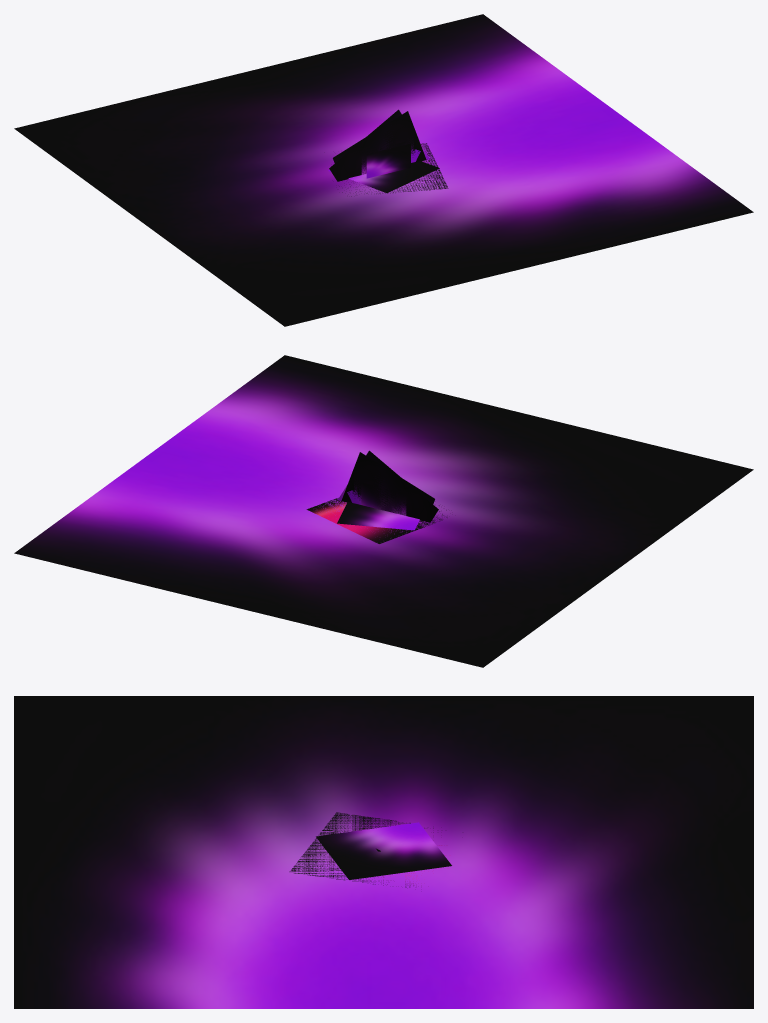
The model's file is datan_common_ExplodeAirBU-_24858e1f.obj.
3 views of the same model, one above another, from view 1: azimuth 30°, elevation 25°; view 2: azimuth 150°, elevation 25°; view 3: azimuth 270°, elevation 25° (orthographic). The views are drawn at different scales.
Parts seen in each view (by area): view 1: datan_common_ExplodeAirBU-_24858e1f_mesh13, datan_common_ExplodeAirBU-_24858e1f_mesh04, datan_common_ExplodeAirBU-_24858e1f_mesh07, datan_common_ExplodeAirBU-_24858e1f_mesh14, datan_common_ExplodeAirBU-_24858e1f_mesh12, datan_common_ExplodeAirBU-_24858e1f_mesh11; view 2: datan_common_ExplodeAirBU-_24858e1f_mesh13, datan_common_ExplodeAirBU-_24858e1f_mesh04, datan_common_ExplodeAirBU-_24858e1f_mesh07, datan_common_ExplodeAirBU-_24858e1f_mesh11, datan_common_ExplodeAirBU-_24858e1f_mesh14; view 3: datan_common_ExplodeAirBU-_24858e1f_mesh13, datan_common_ExplodeAirBU-_24858e1f_mesh14, datan_common_ExplodeAirBU-_24858e1f_mesh11.
Part boxes in pixels (bbox=[...]): datan_common_ExplodeAirBU-_24858e1f_mesh13: bbox=[14, 14, 753, 326]; datan_common_ExplodeAirBU-_24858e1f_mesh04: bbox=[329, 109, 429, 181]; datan_common_ExplodeAirBU-_24858e1f_mesh07: bbox=[333, 111, 426, 163]; datan_common_ExplodeAirBU-_24858e1f_mesh14: bbox=[328, 161, 439, 192]; datan_common_ExplodeAirBU-_24858e1f_mesh12: bbox=[366, 143, 410, 178]; datan_common_ExplodeAirBU-_24858e1f_mesh11: bbox=[339, 143, 448, 196]; datan_common_ExplodeAirBU-_24858e1f_mesh13: bbox=[14, 355, 753, 667]; datan_common_ExplodeAirBU-_24858e1f_mesh04: bbox=[338, 450, 438, 522]; datan_common_ExplodeAirBU-_24858e1f_mesh07: bbox=[341, 452, 434, 510]; datan_common_ExplodeAirBU-_24858e1f_mesh11: bbox=[306, 498, 447, 543]; datan_common_ExplodeAirBU-_24858e1f_mesh14: bbox=[337, 502, 419, 530]; datan_common_ExplodeAirBU-_24858e1f_mesh13: bbox=[14, 696, 753, 1008]; datan_common_ExplodeAirBU-_24858e1f_mesh14: bbox=[316, 822, 451, 879]; datan_common_ExplodeAirBU-_24858e1f_mesh11: bbox=[289, 812, 445, 887].
Bounding box in the file's own units: 0.4928 × 0.1154 × 0.4928.
1 material, 1 textured.
